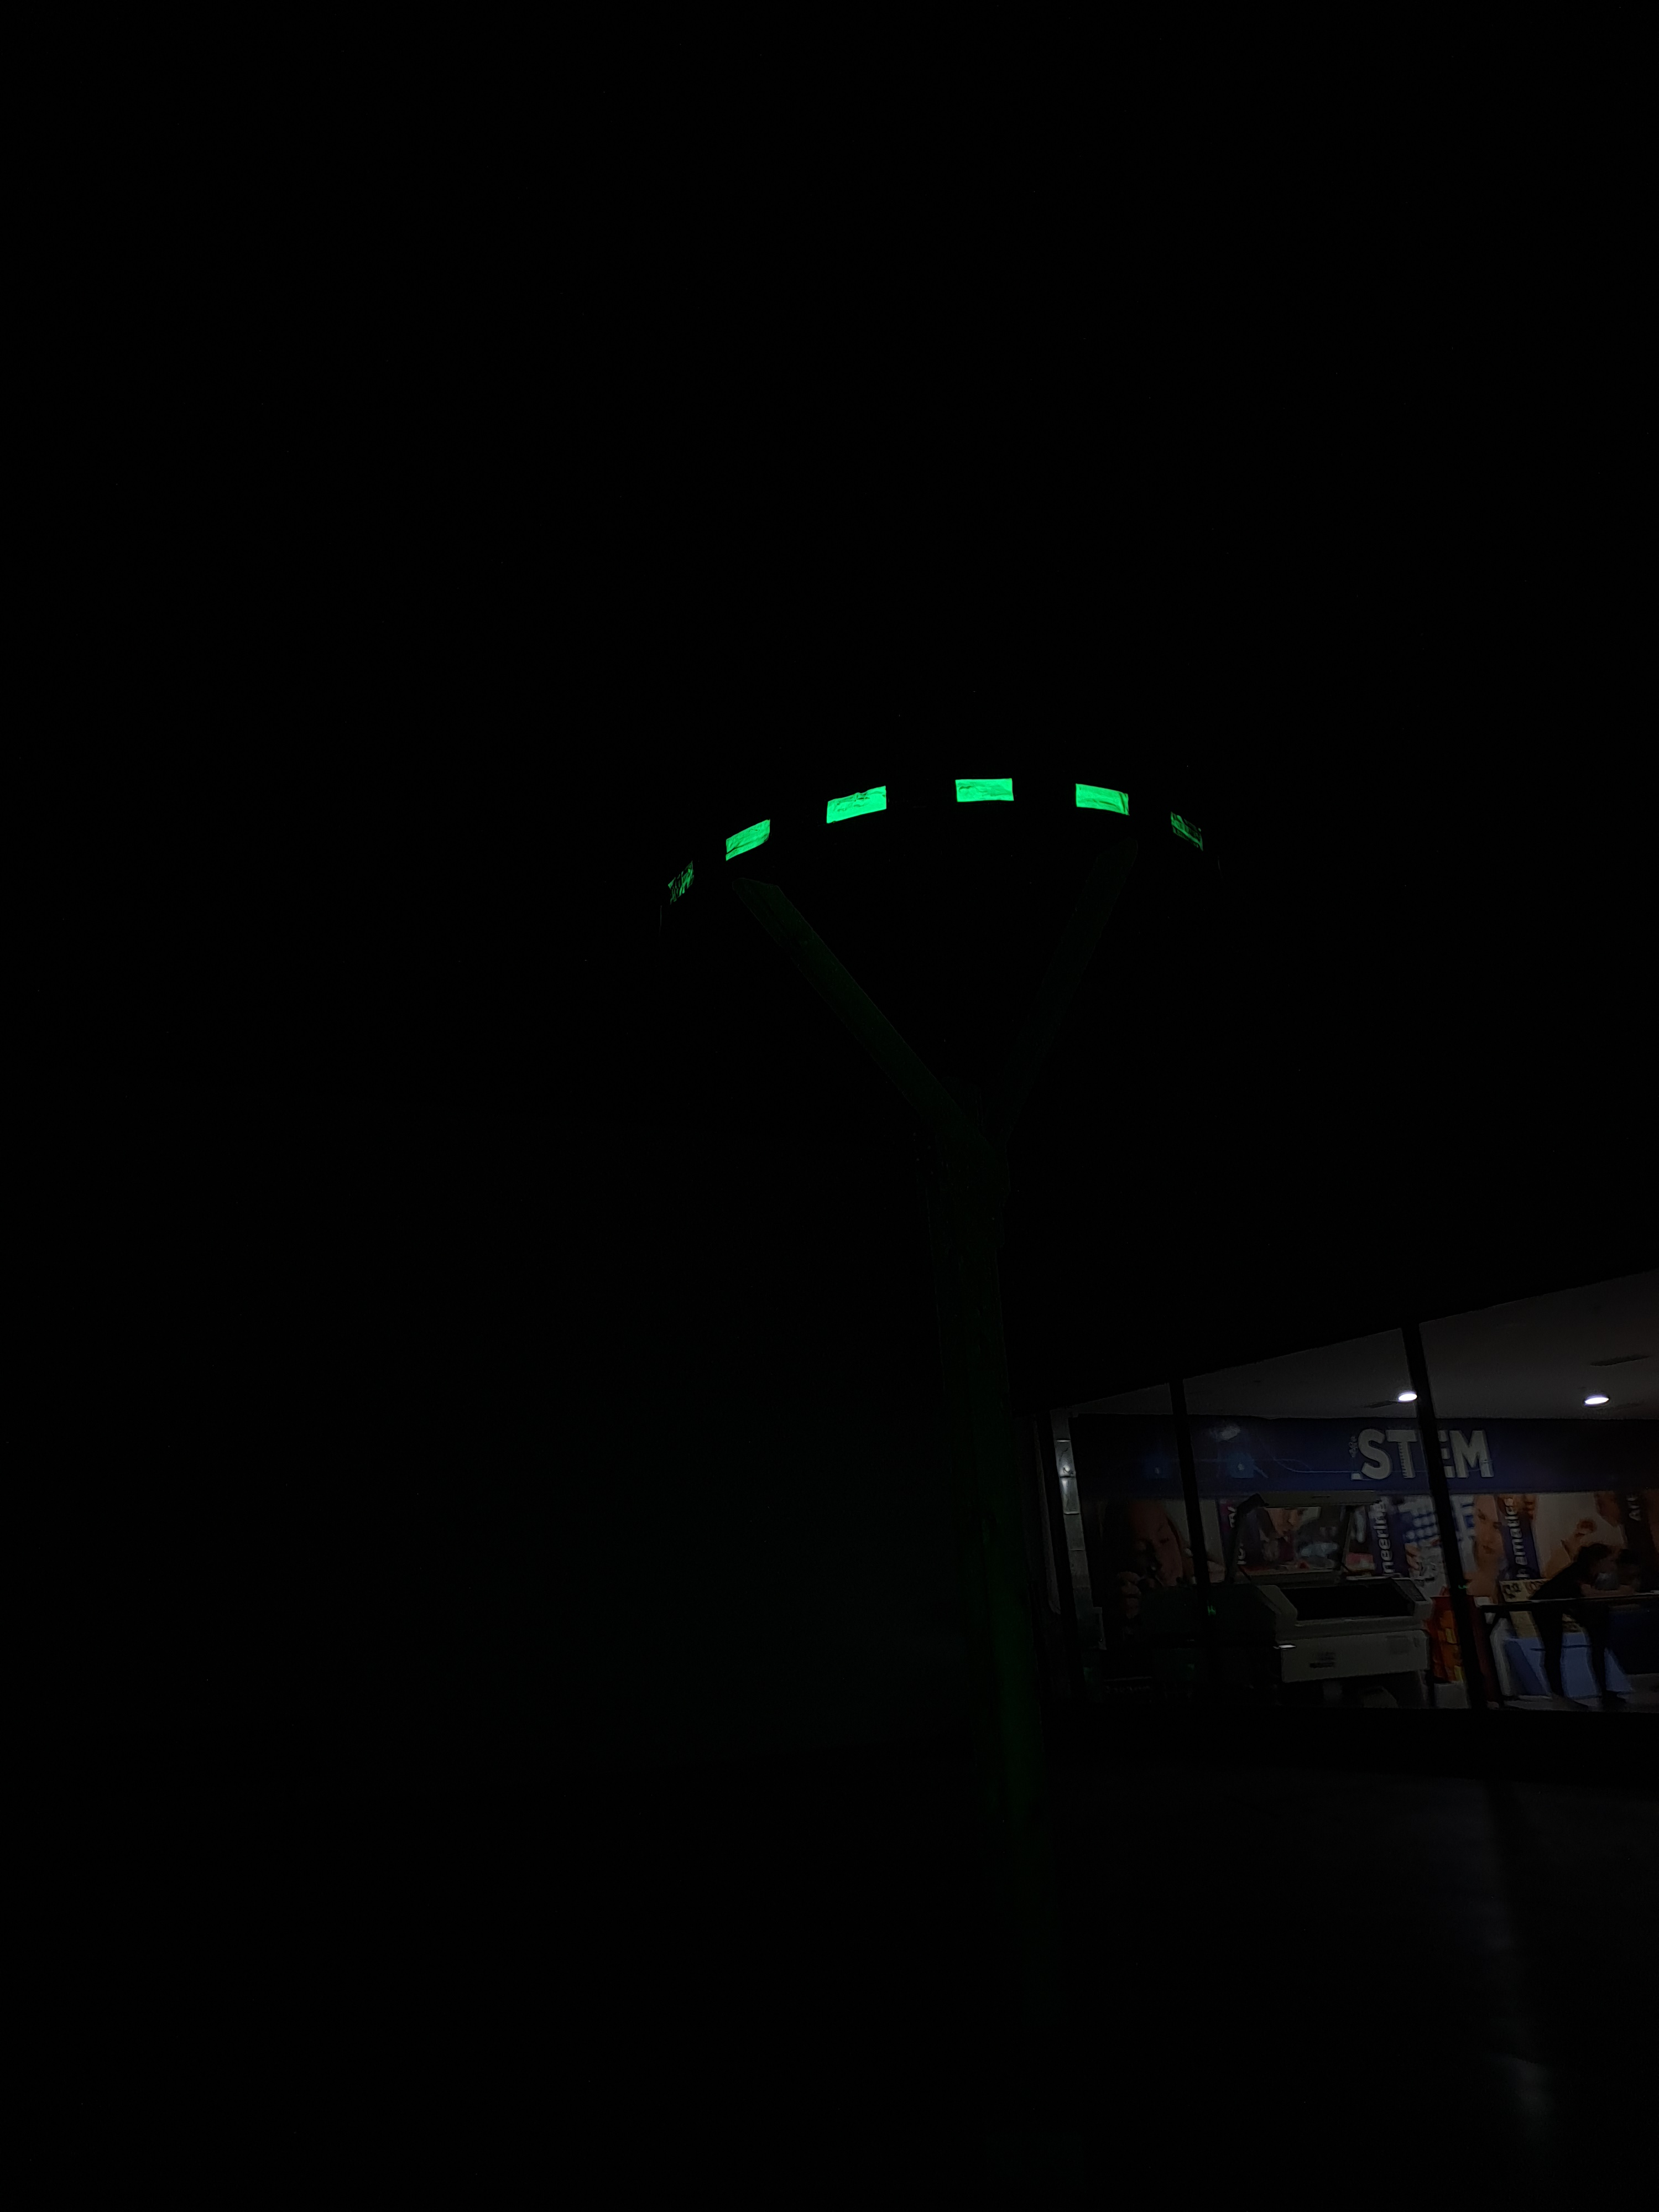hoop: (660, 772, 1211, 892)
